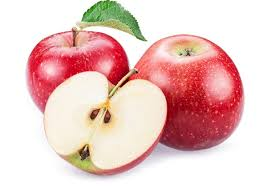apple: (133, 35, 244, 148), (30, 29, 132, 122)
damaged_apple: (41, 73, 169, 172)
